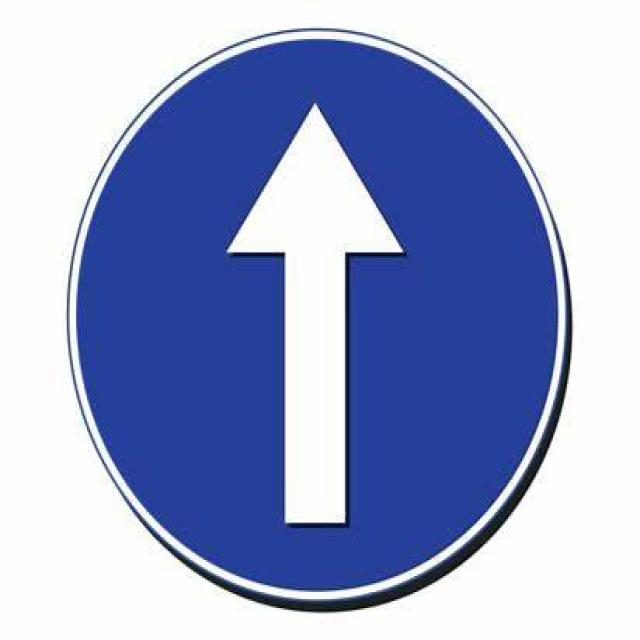compulsory_ahead: (76, 26, 570, 607)
